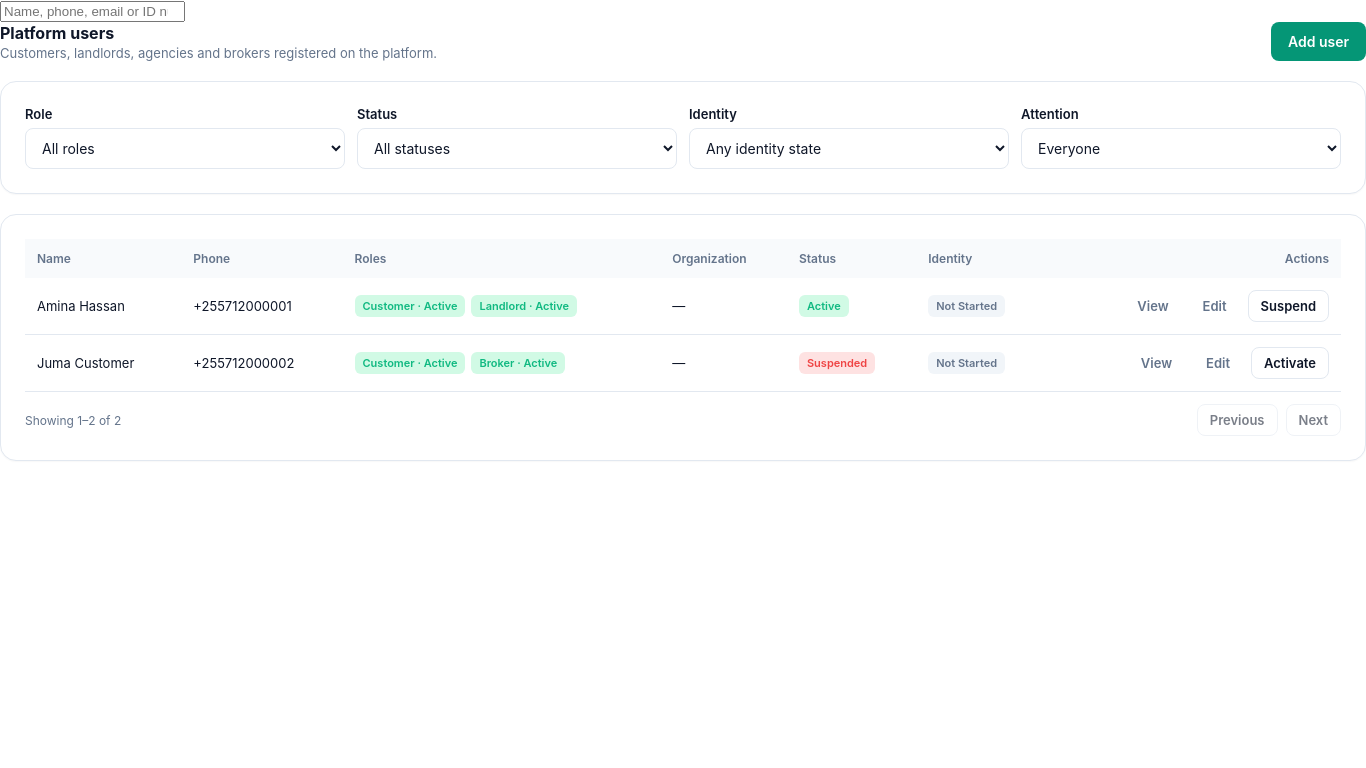
UsersPage — platform users › creates a user and refreshes the list
The width and height of the screenshot is (1366, 768).
Expected: the text "Amina Hassan" is shown, [25,278,181,334]
Step 1. Click the button "Add user" → coordinates (1318, 42), box [1271,22,1365,61]
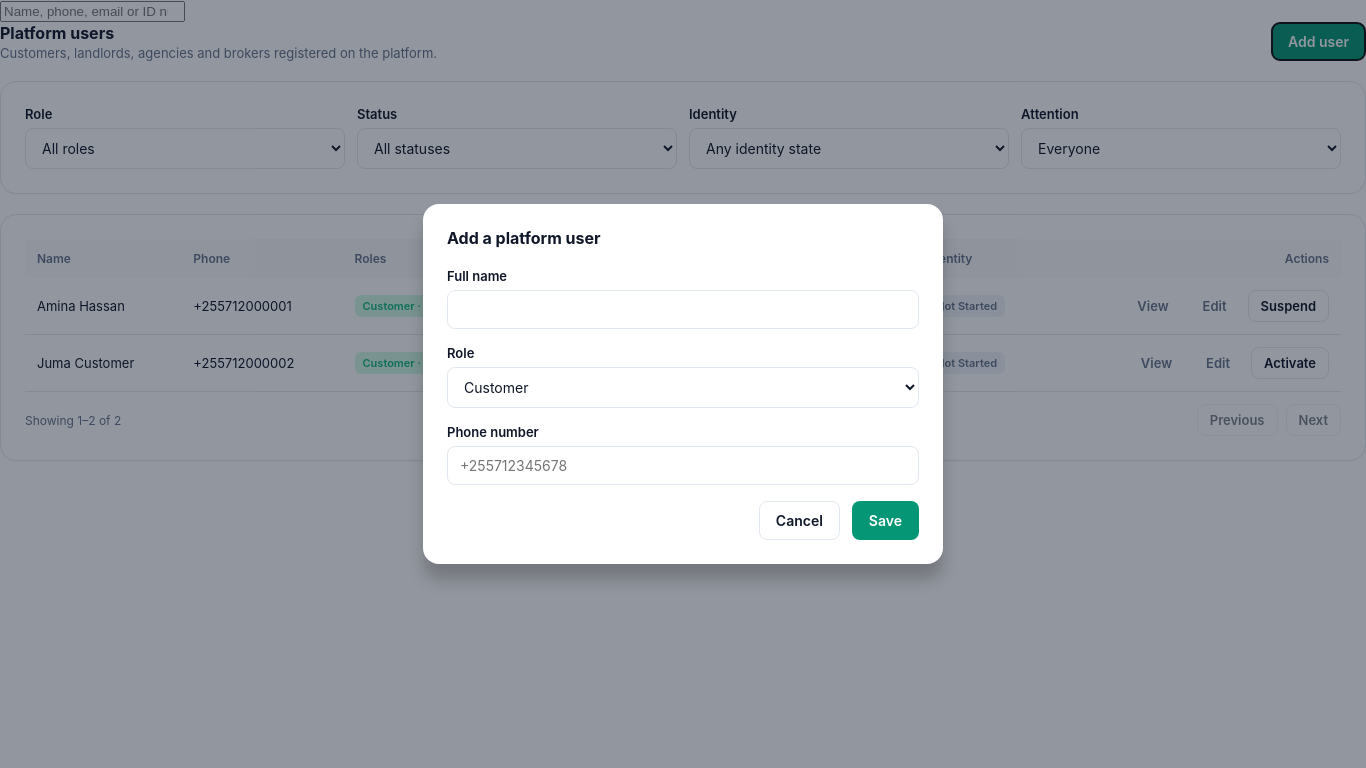
Step 2. Type "New Landlord" into the field labelled "Full name" → coordinates (683, 310), box [447,290,919,329]
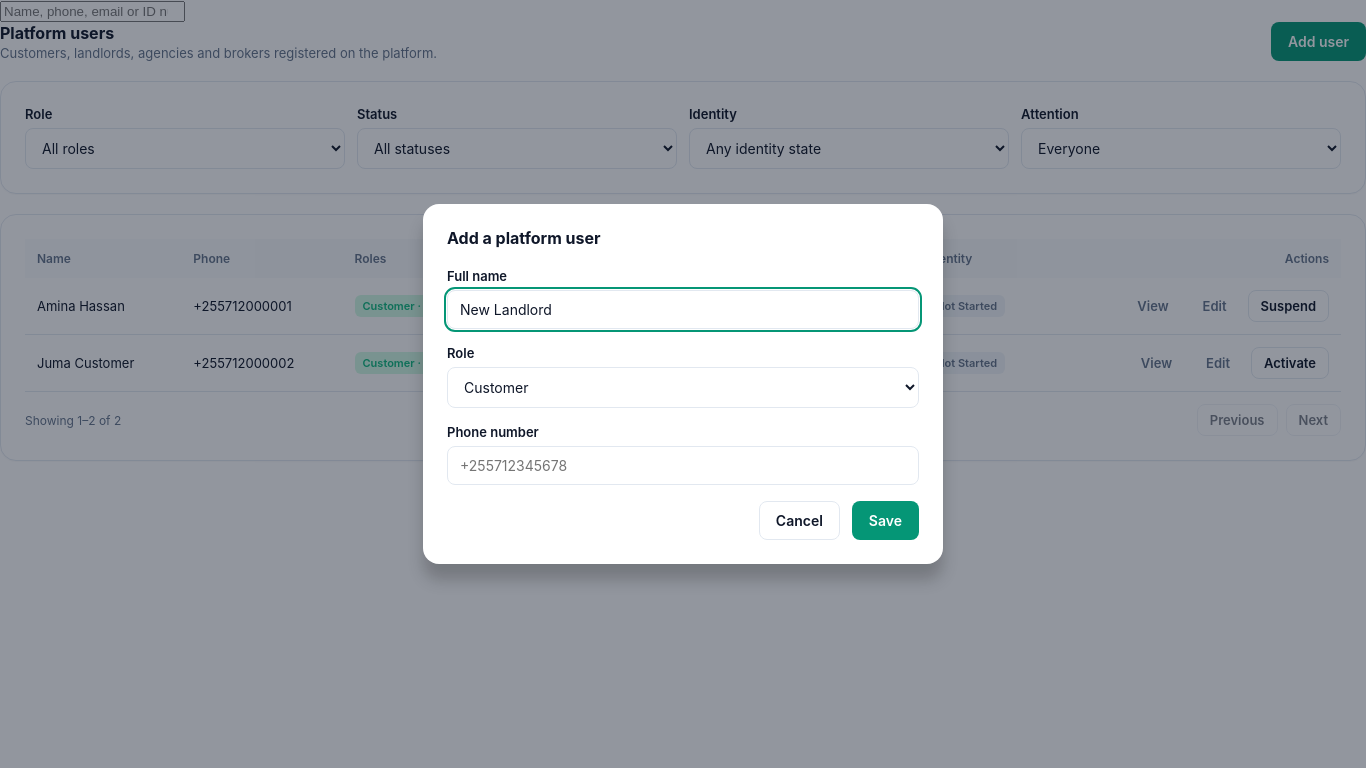
Step 3. Type "+255712999999" into the field labelled "Phone number" → coordinates (683, 466), box [447,446,919,485]
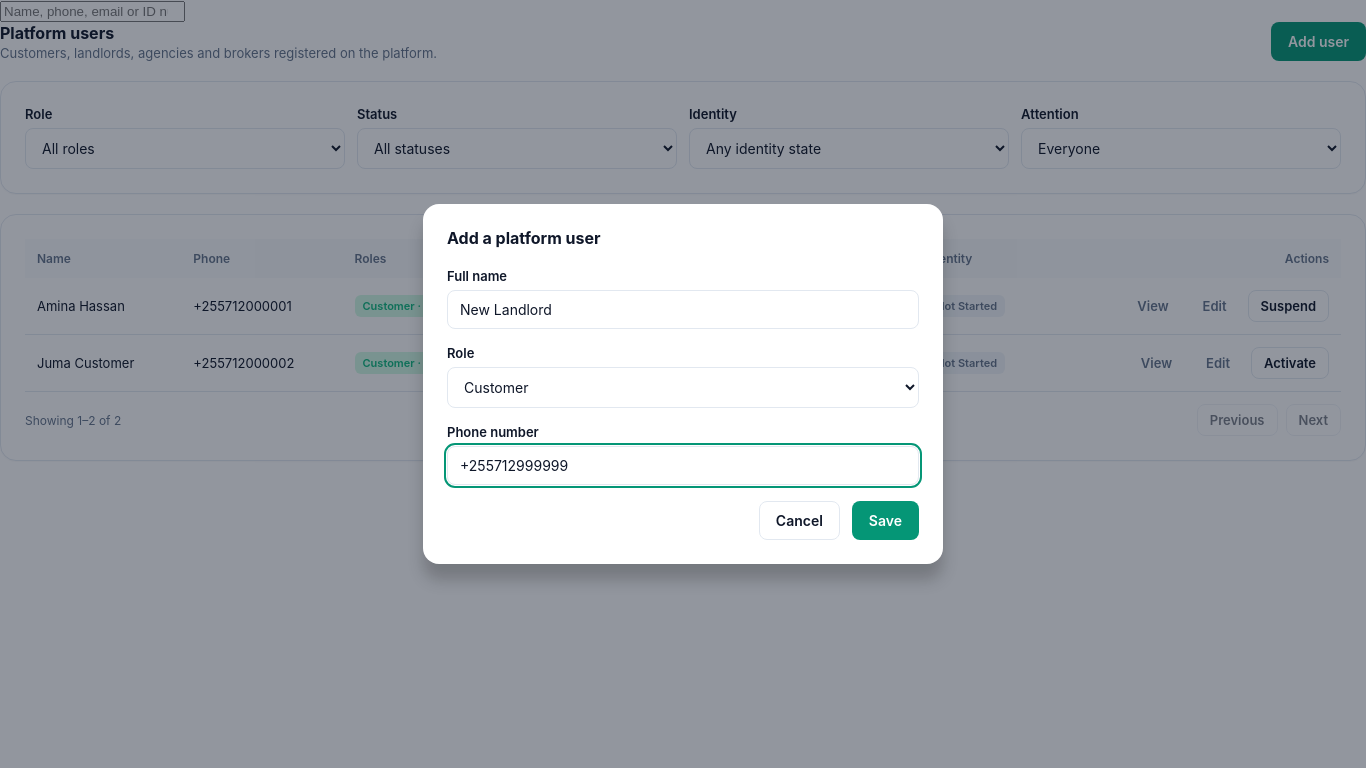
Step 4. Select "Landlord" in the dropdown labelled "Role" → coordinates (683, 388), box [447,367,919,408]
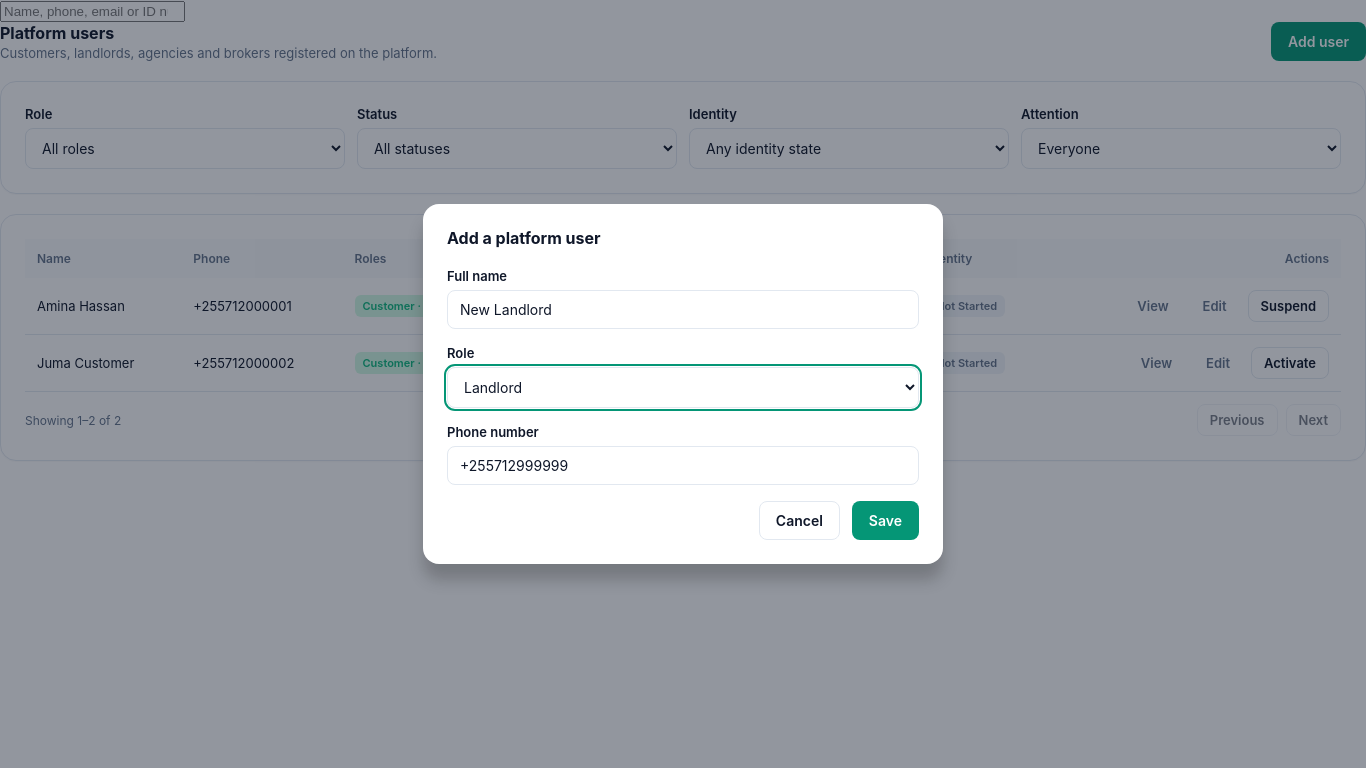
Step 5. Click the button "Save" → coordinates (885, 520), box [852,501,919,540]
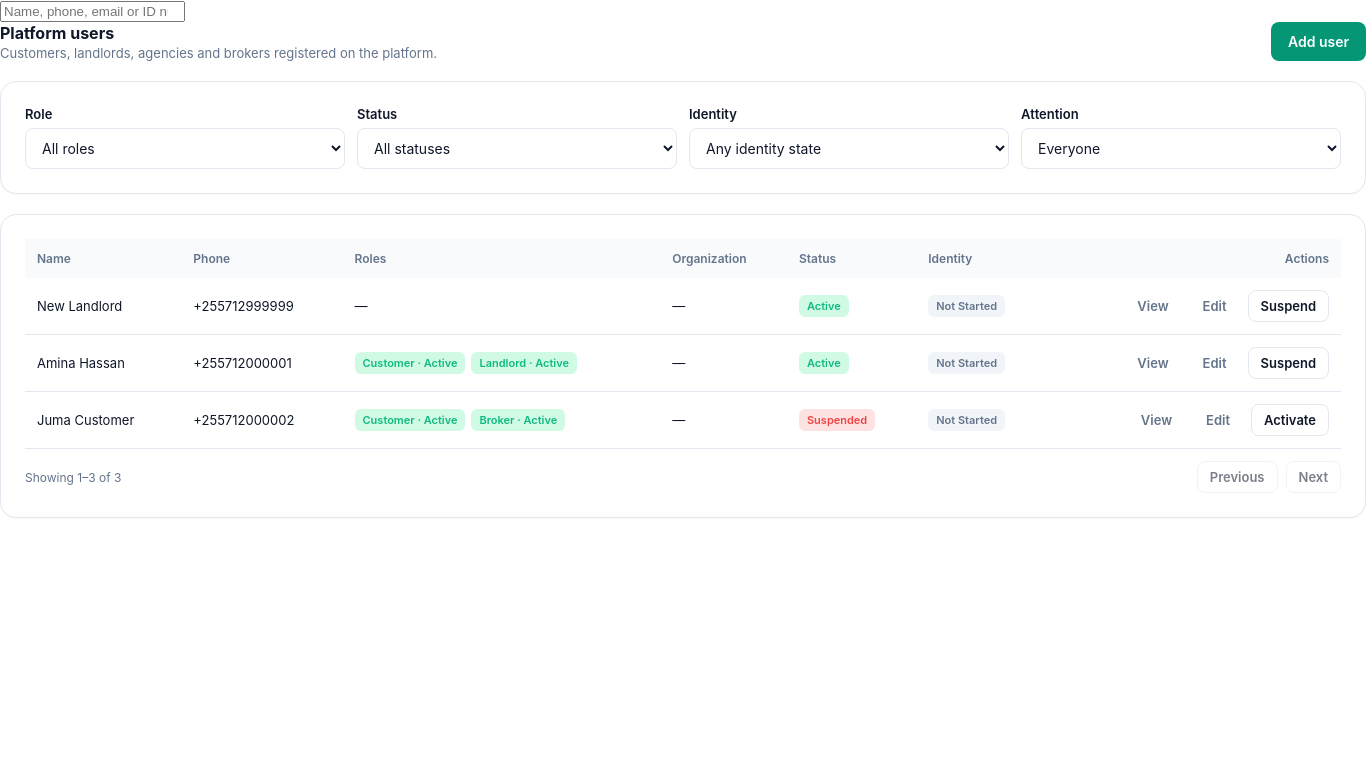
Expected: the text "New Landlord" is shown, [25,278,181,334]
